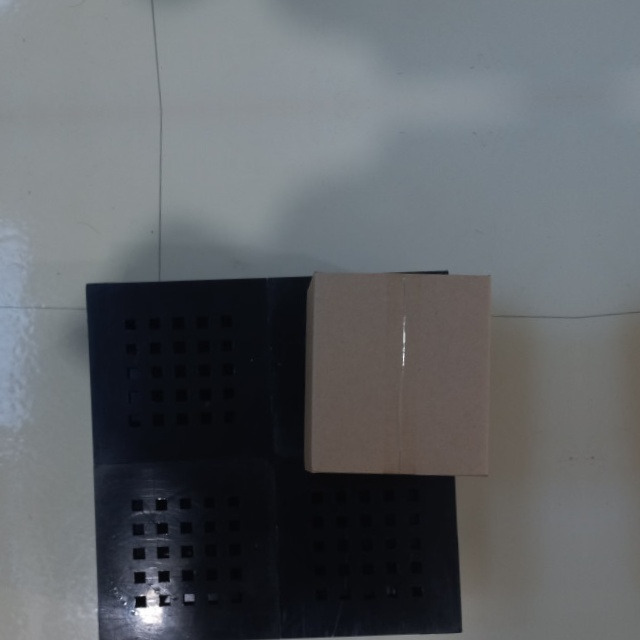box: (304, 268, 494, 478)
pallet: (88, 266, 471, 640)
